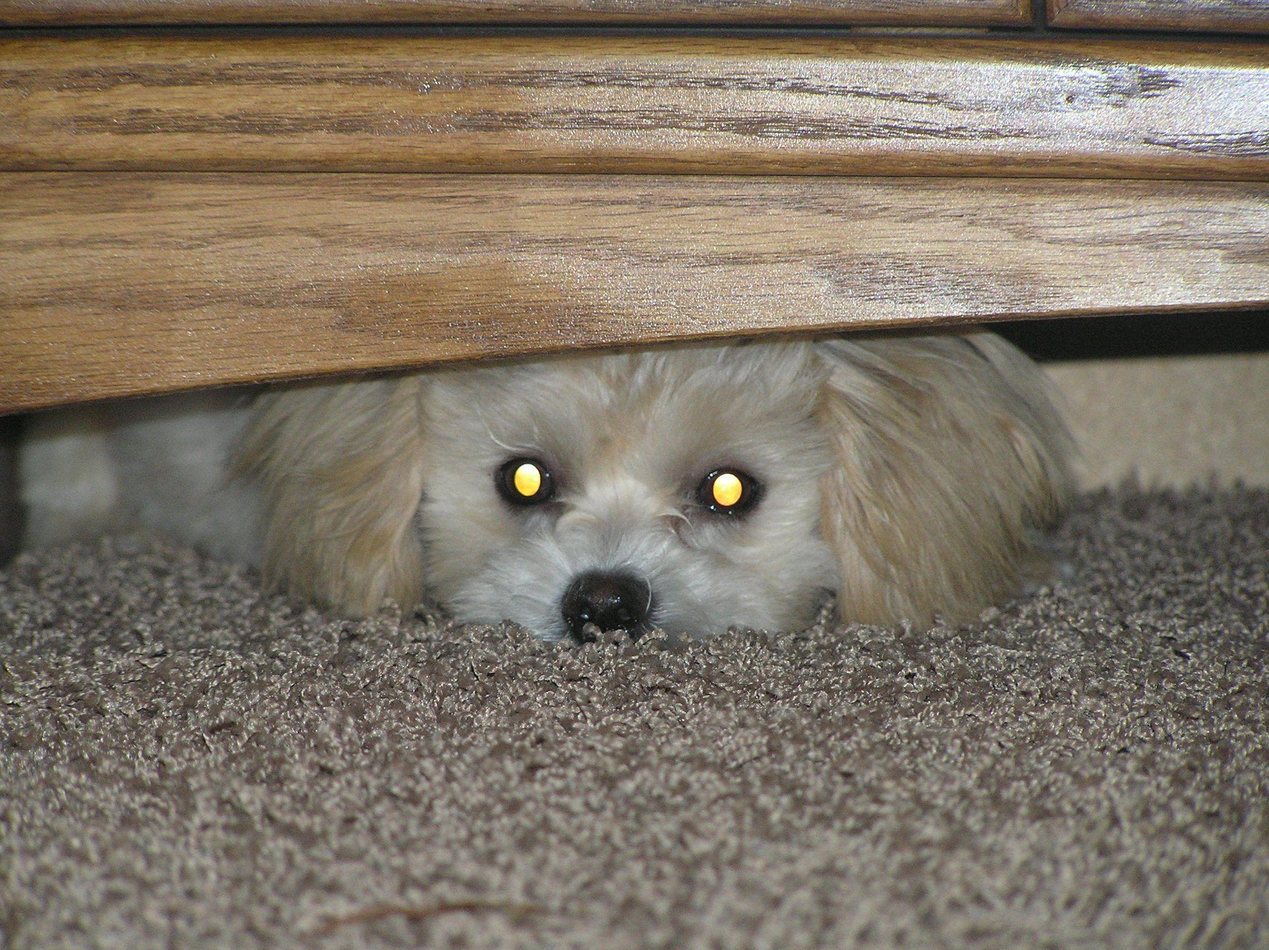adult_dog: (219, 324, 1088, 654)
